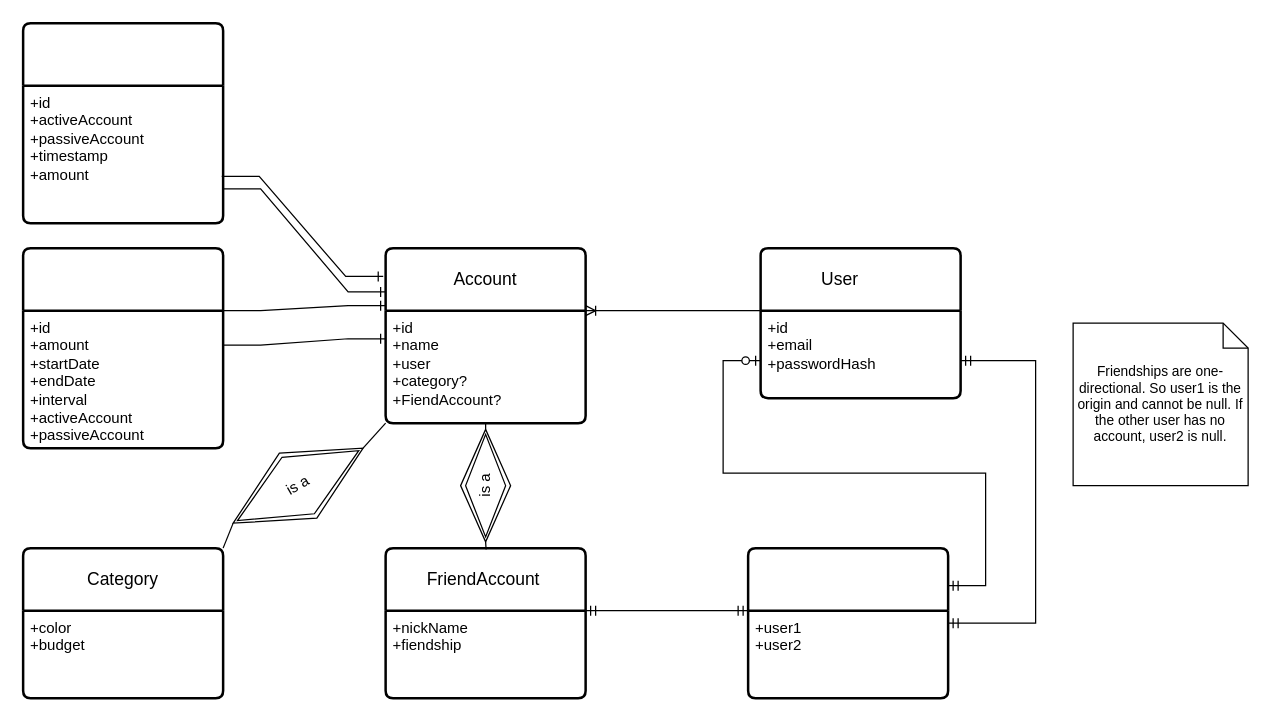
This 1270x720 diagram has some shape labels left out. The box of each missing label's shape, as (x1, y1, x2, y2) in pixels:
Booking: (21, 21, 224, 224)
Friendship: (746, 546, 949, 699)
RecurringTransaction: (21, 246, 224, 449)
